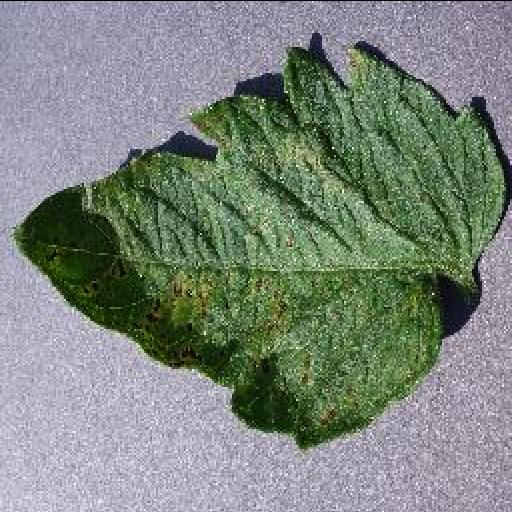disease_tomato: (12, 46, 512, 452)
